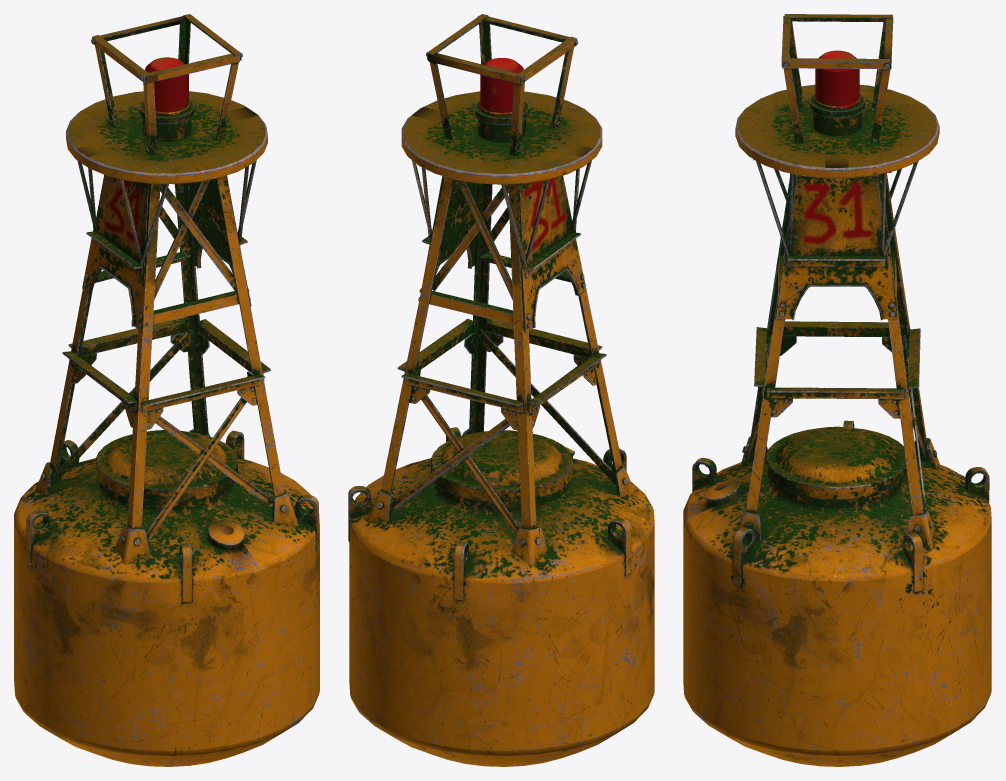
Rendered from River buoy_FBX.fbx.
3 renders of one model, left to right at view 1: azimuth 30°, elevation 25°; view 2: azimuth 150°, elevation 25°; view 3: azimuth 270°, elevation 25°, orthographic.
Visible parts, largest first — view 1: R_16; view 2: R_16; view 3: R_16.
Part boxes in pixels (box(x1,y1,x2,y2)): R_16: box(14, 14, 319, 766); R_16: box(348, 14, 654, 766); R_16: box(683, 14, 991, 766).
Size of the model in its own units: 200 by 506 by 199.
